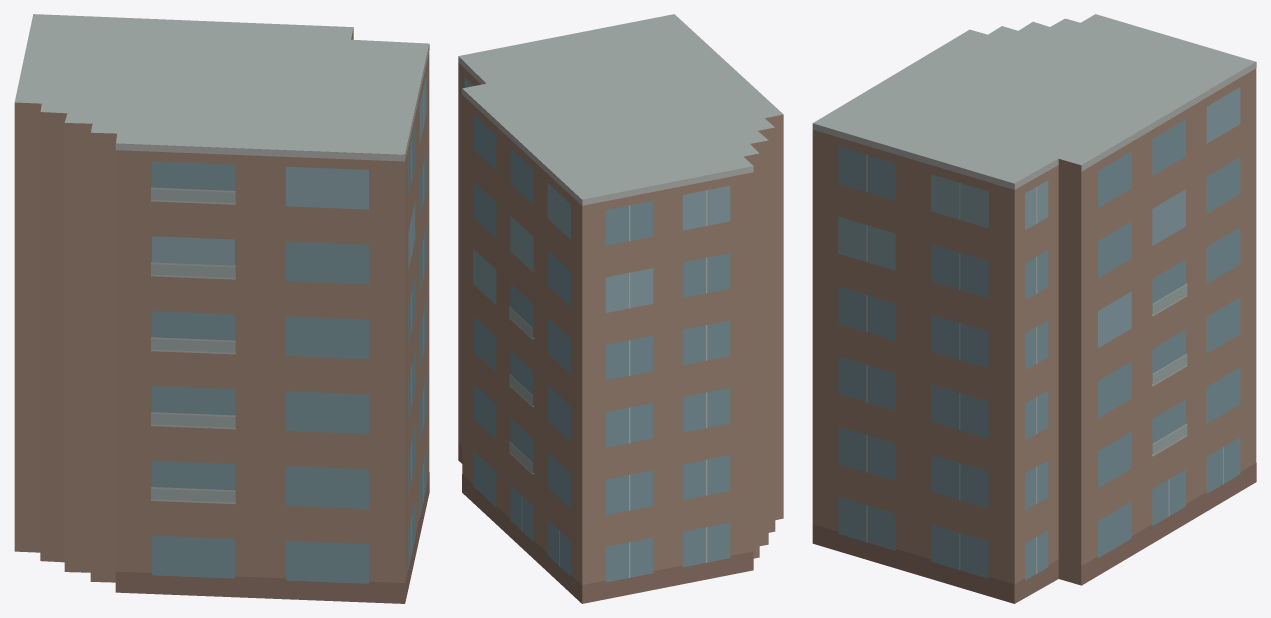
The model's file is survey-upis-32643965.glb.
The picture shows the model from 3 angles, left to right: view 1: azimuth 30°, elevation 25°; view 2: azimuth 150°, elevation 25°; view 3: azimuth 270°, elevation 25°; orthographic projection. The views are drawn at different scales.
Visible parts, largest first — view 1: survey-upis-32643965.tmp; view 2: survey-upis-32643965.tmp; view 3: survey-upis-32643965.tmp.
Part boxes in pixels (x1,y1,x2,y2): survey-upis-32643965.tmp: (14,14,429,603); survey-upis-32643965.tmp: (458,14,783,603); survey-upis-32643965.tmp: (812,14,1256,603).
Size of the model in its own units: 14.03 by 16.2 by 15.51.
